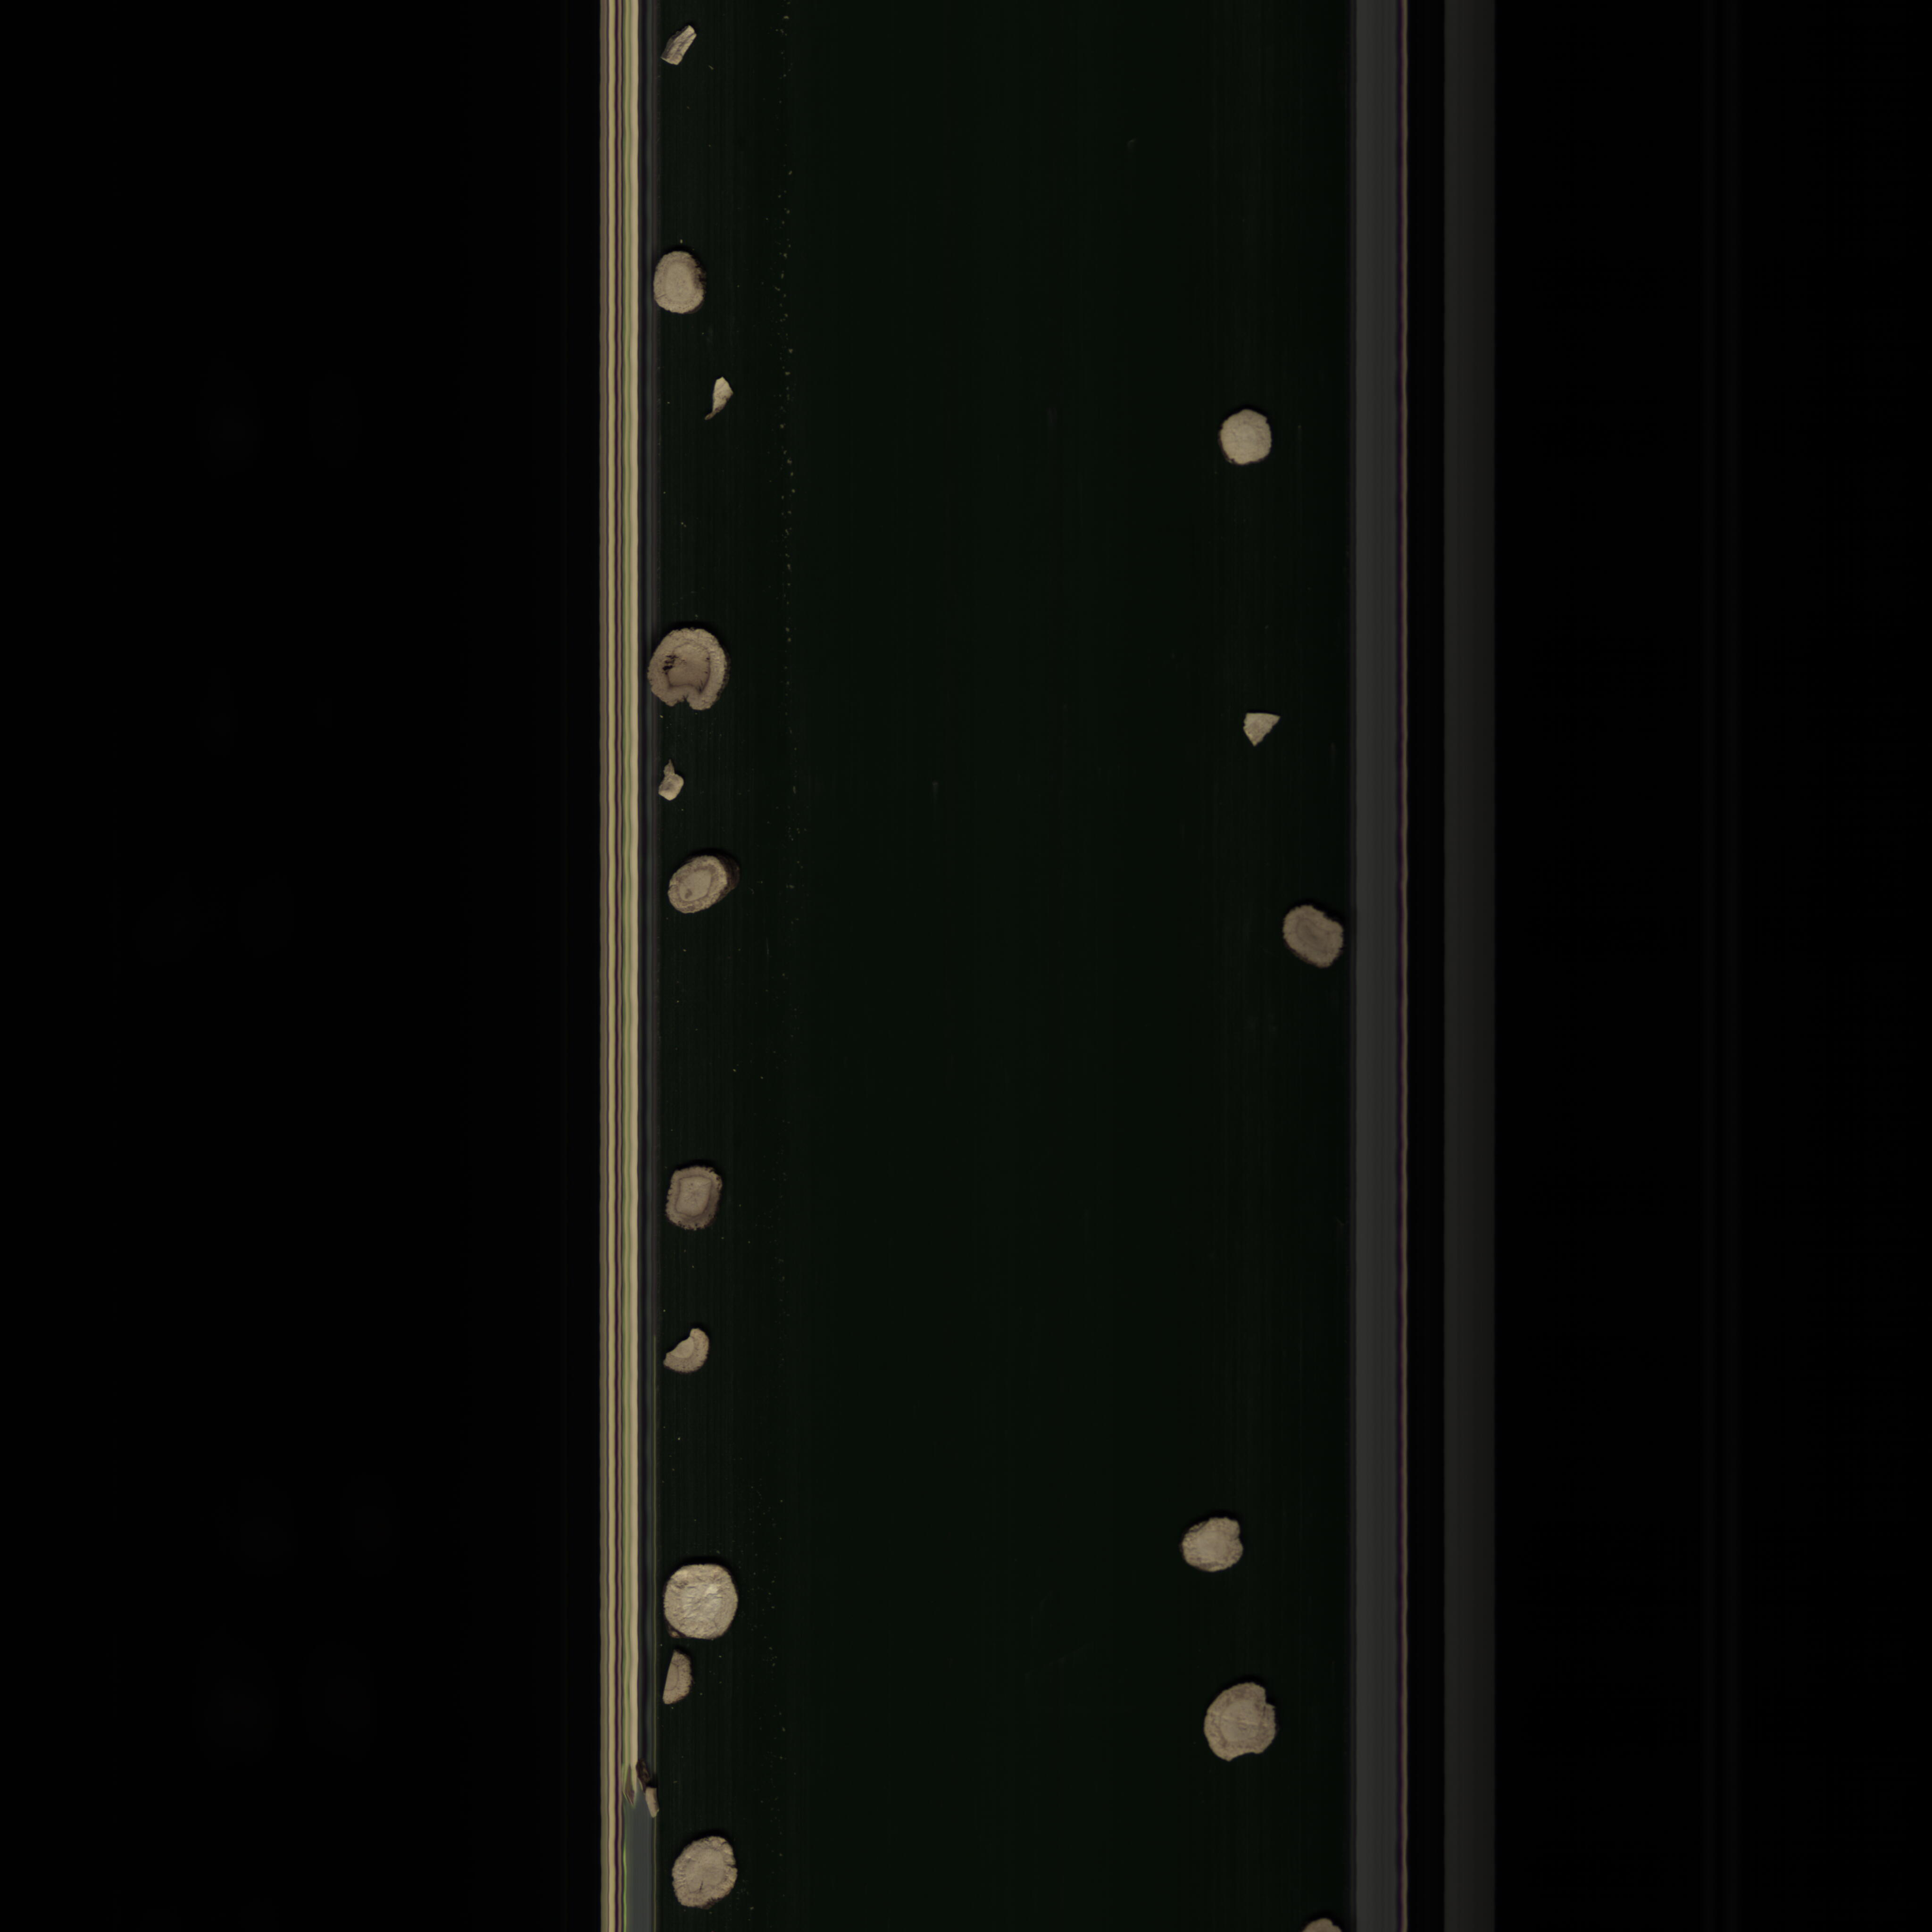bark: (658, 19, 701, 65), (702, 375, 741, 425)
debris: (658, 1325, 717, 1380), (1240, 701, 1284, 754), (658, 1649, 694, 1706), (656, 761, 692, 805)
moldy: (644, 617, 740, 722), (1276, 888, 1346, 975), (660, 1164, 734, 1242)
